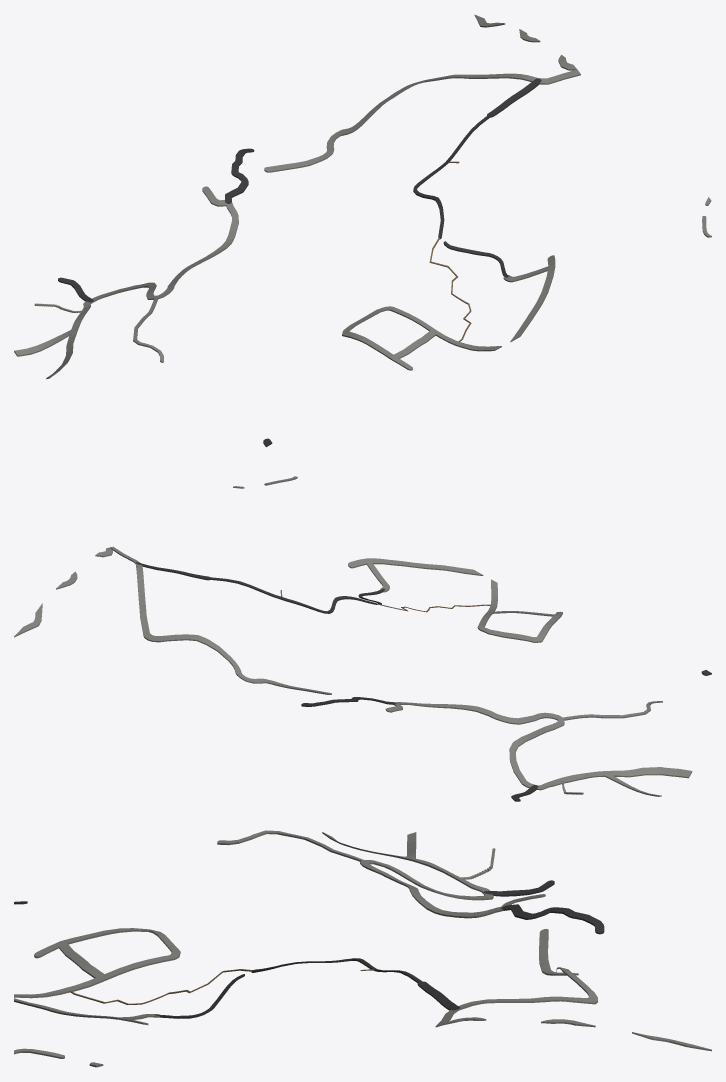
3 renders of one model, top to bottom at view 1: azimuth 30°, elevation 25°; view 2: azimuth 150°, elevation 25°; view 3: azimuth 270°, elevation 25°, orthographic. The views are drawn at different scales.
Bounding box in the file's own units: 587 × 140 × 474.
